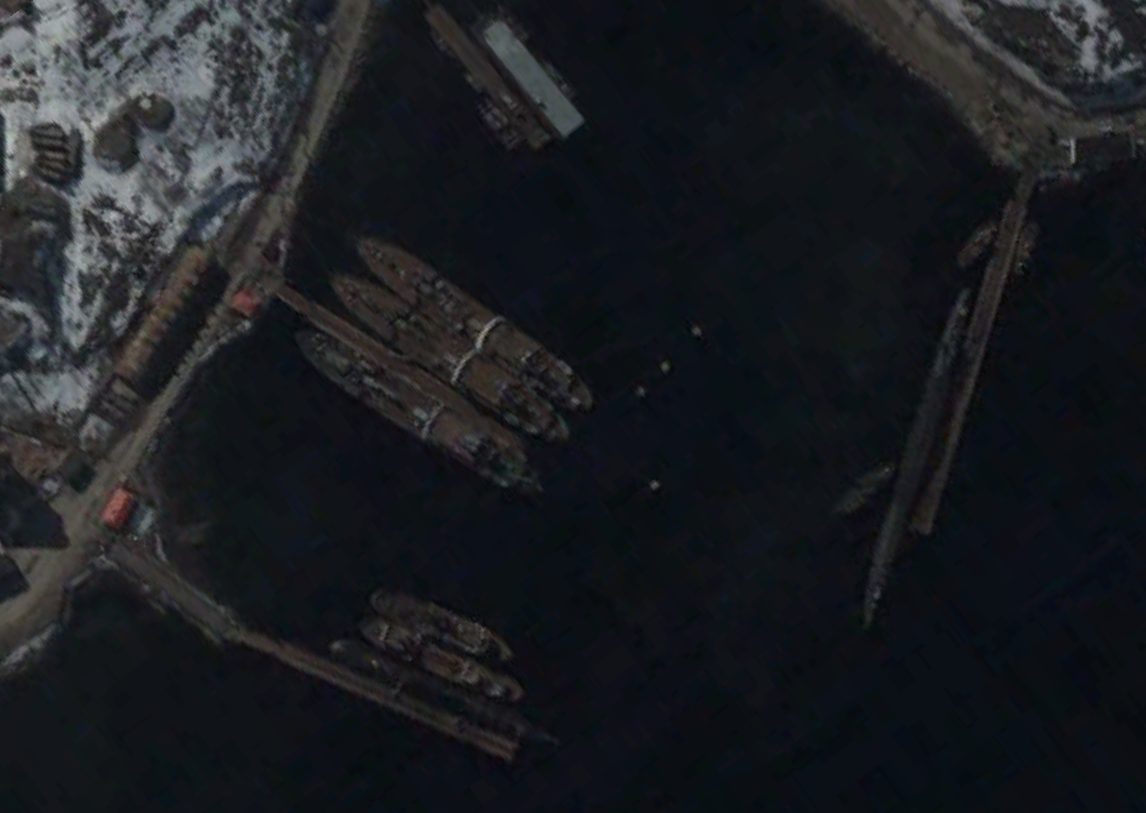merchant ship: (352, 232, 592, 415), (292, 325, 541, 492), (330, 270, 570, 443), (355, 612, 520, 702), (371, 590, 511, 664), (953, 223, 997, 270), (1011, 223, 1038, 274)
submarine: (862, 293, 969, 631), (328, 636, 572, 756)
